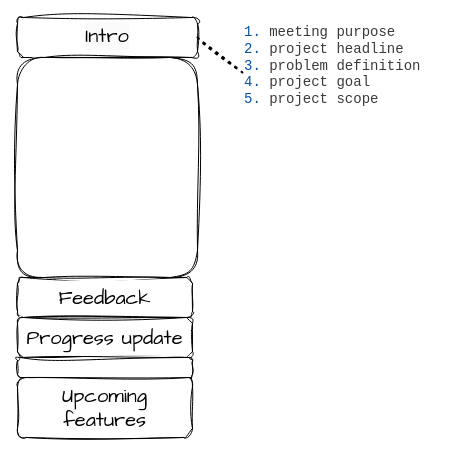
The diagram is 460 pixels wide and 455 high, and some of its shapes have lost their labels. The box of each missing label's shape, as (x1, y1, x2, y2) in pixels:
Demo: (16, 56, 198, 278)
Risks: (16, 356, 192, 378)
